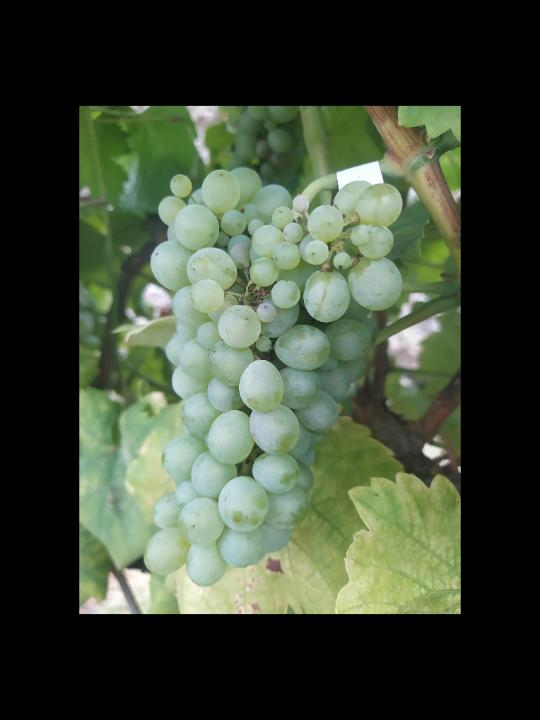grape: (140, 166, 406, 590)
